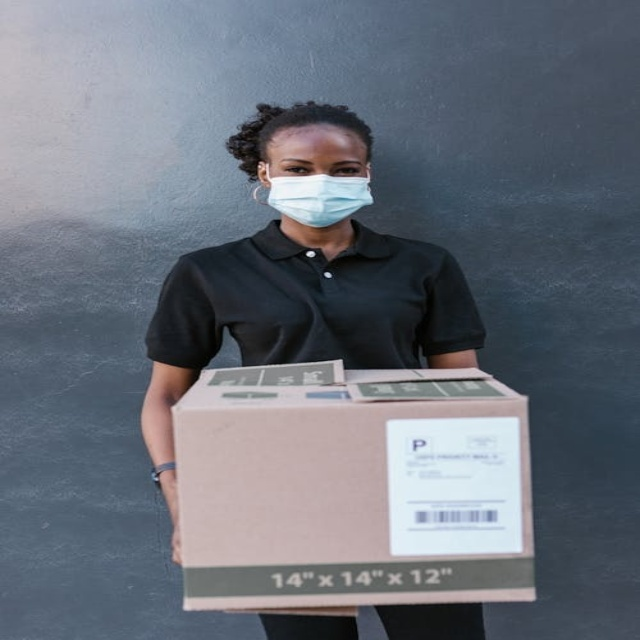Mascara: (265, 170, 374, 226)
Sin_gafas: (270, 153, 369, 175)
